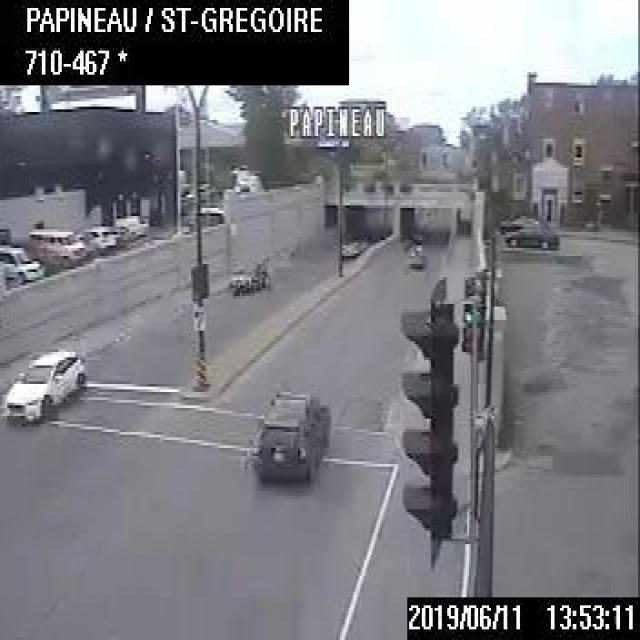vehicle: (256, 387, 331, 477), (2, 346, 85, 418), (27, 227, 86, 270), (500, 218, 560, 249), (0, 244, 42, 281), (80, 221, 115, 253), (231, 256, 264, 288), (499, 214, 538, 232), (342, 232, 365, 256), (406, 243, 426, 264)
